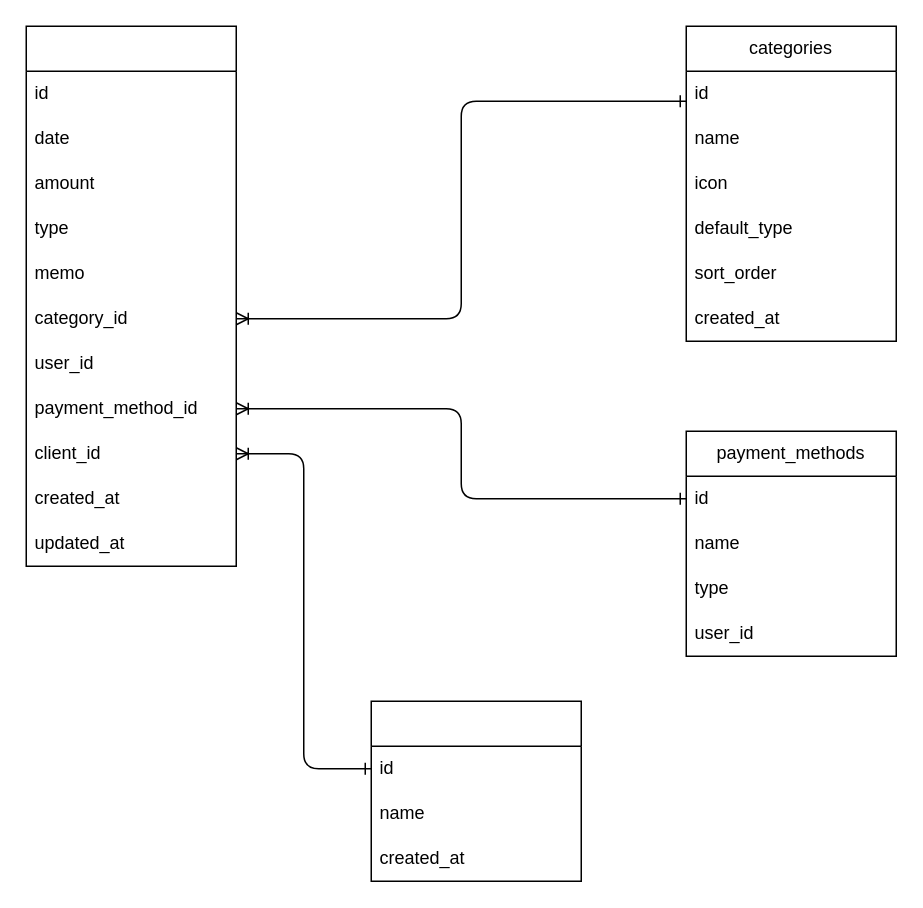
Image size: 923x908. Some labels were removed from this diagram. Each missing label, with the box of its shape:
clients: (370, 700, 581, 881)
transactions: (25, 25, 236, 566)
